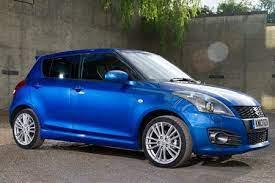Hatchback: (5, 47, 273, 167)
